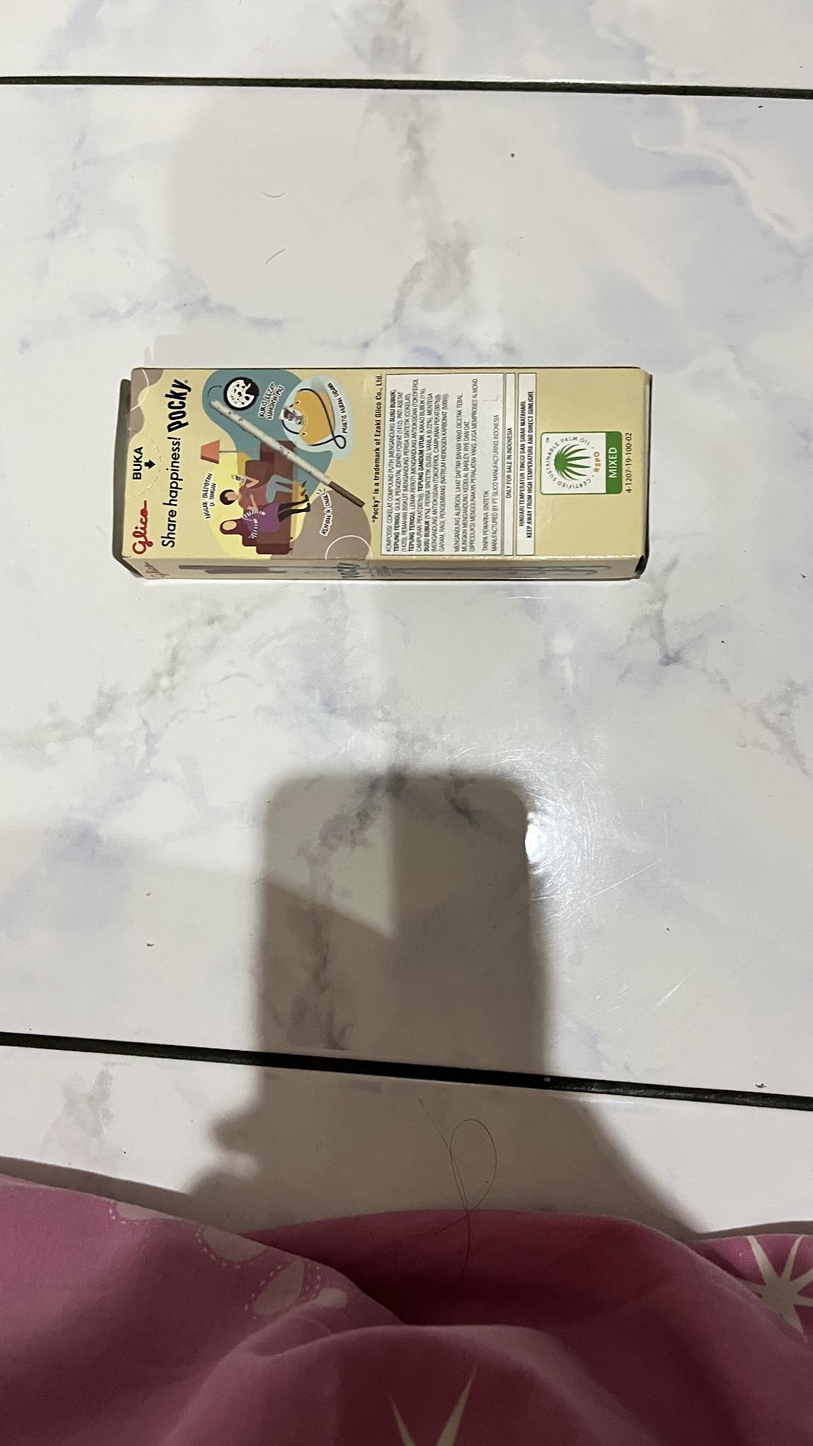Kertas: (129, 369, 660, 588)
